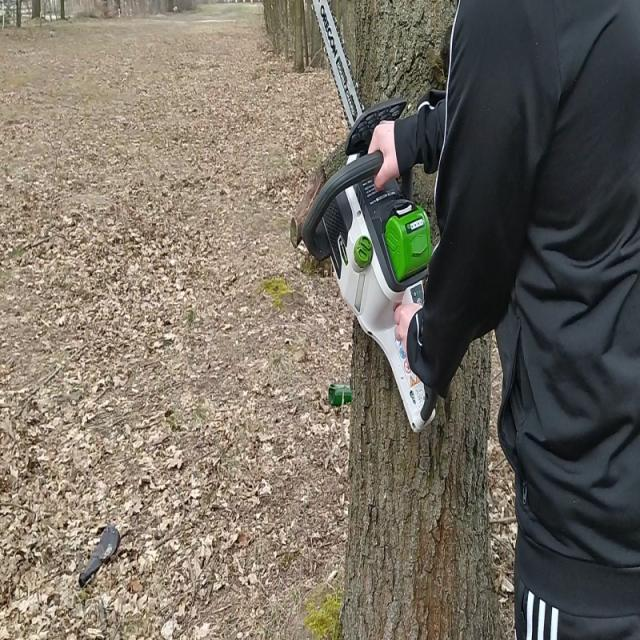Chainsaw: (298, 0, 444, 439)
